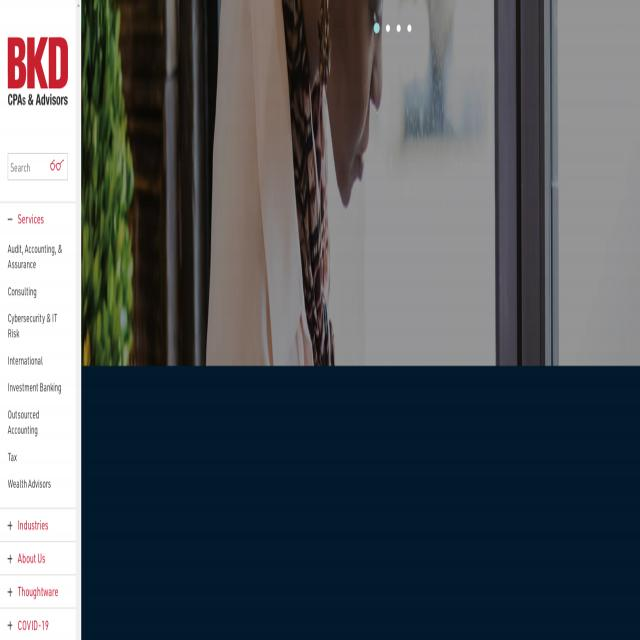button: (8, 31, 68, 110), (0, 304, 76, 347), (0, 400, 76, 443), (0, 235, 76, 277), (0, 607, 75, 640), (0, 203, 76, 235), (0, 509, 76, 541), (0, 543, 76, 575), (0, 576, 76, 608), (0, 346, 76, 374), (0, 277, 76, 304), (0, 374, 76, 401), (0, 443, 76, 470), (0, 470, 76, 497), (47, 152, 67, 177), (372, 21, 381, 36), (385, 22, 391, 34), (396, 23, 402, 34), (407, 23, 412, 34)
field: (8, 152, 68, 180)
